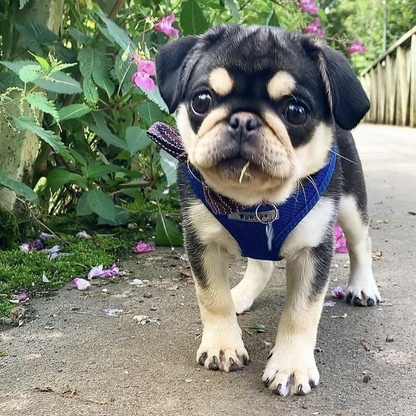Pug: (150, 20, 384, 400)
